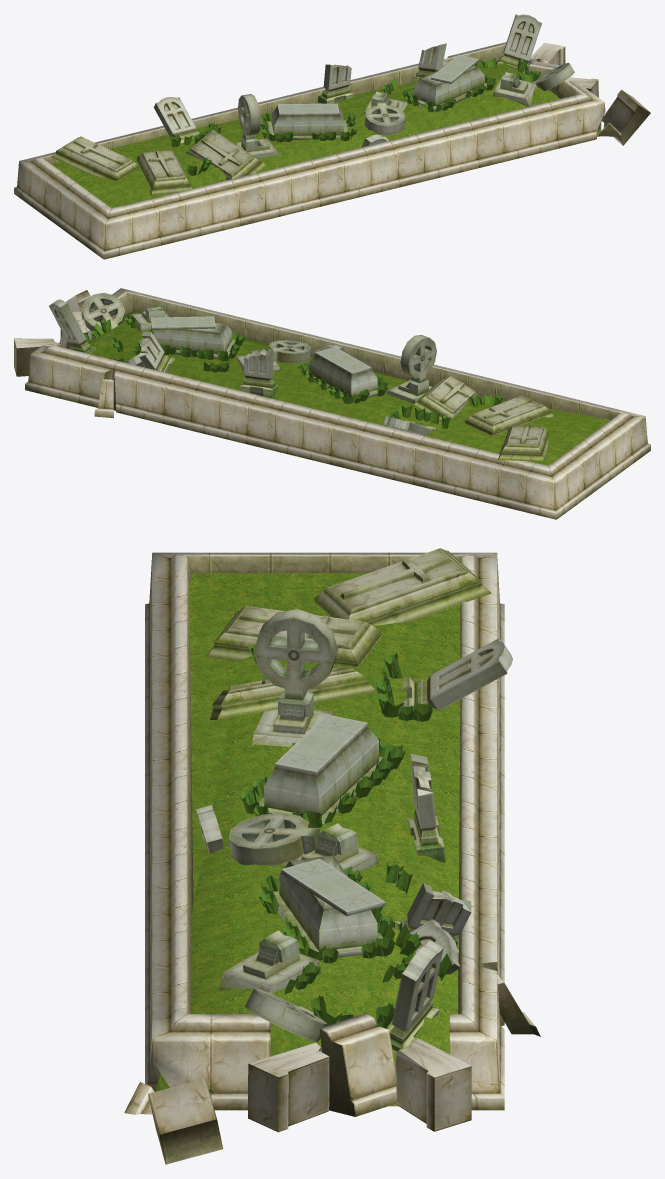
Rendered from a_SWTpart01a.glb.
3 views of the same model, one above another, from view 1: azimuth 30°, elevation 25°; view 2: azimuth 150°, elevation 25°; view 3: azimuth 270°, elevation 25° (orthographic). The views are drawn at different scales.
Visible parts, largest first — view 1: a_SWTpart01a; view 2: a_SWTpart01a; view 3: a_SWTpart01a.
Part boxes in pixels (x1,y1,x2,y2): a_SWTpart01a: (14, 14, 650, 259); a_SWTpart01a: (14, 288, 650, 519); a_SWTpart01a: (124, 548, 540, 1164).
Bounding box in the file's own units: 14.15 × 2.68 × 4.64.
8 materials, 8 textured.
